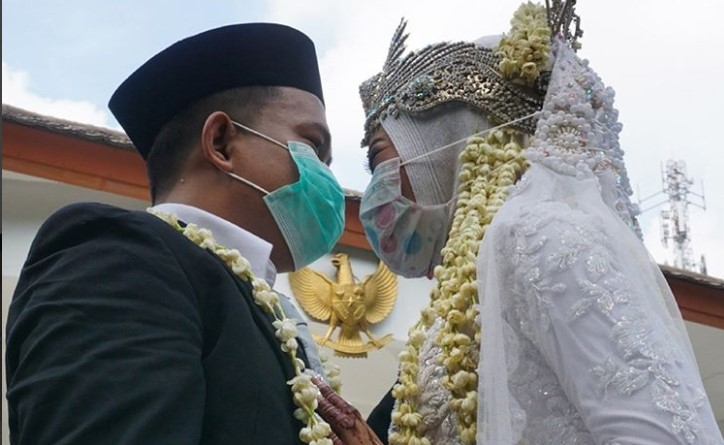face_with_mask: (135, 23, 351, 277), (358, 41, 554, 279)
